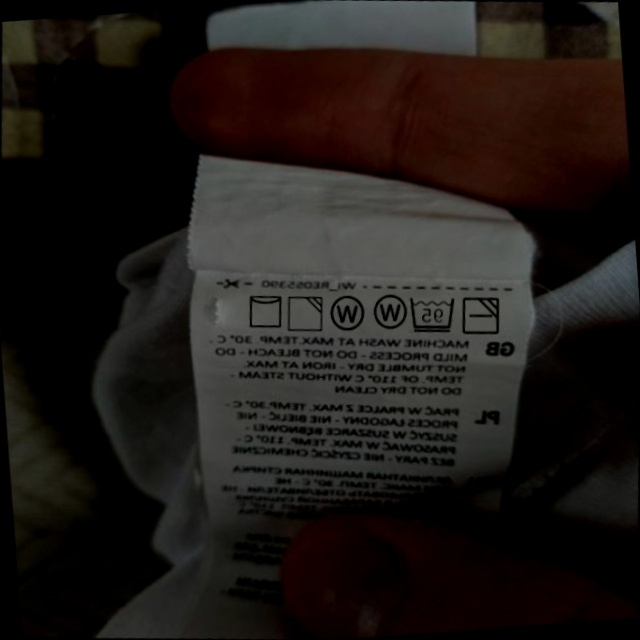95C: (405, 291, 459, 336)
dry_flat_in_shade: (459, 291, 504, 339)
line_dry: (242, 289, 287, 333)
shade_dry: (283, 291, 327, 336)
wet_clean: (326, 292, 368, 336), (368, 288, 409, 333)
